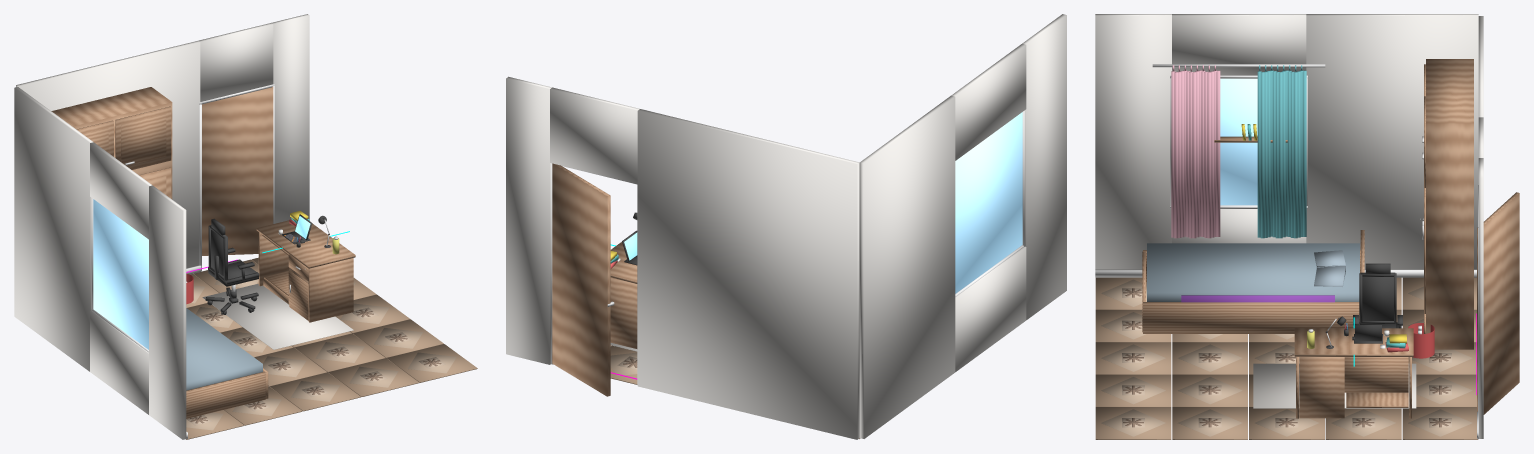
Rendered from room_model.glb.
3 renders of one model, left to right at view 1: azimuth 30°, elevation 25°; view 2: azimuth 150°, elevation 25°; view 3: azimuth 270°, elevation 25°, orthographic. The views are drawn at different scales.
Visible parts, largest first — view 1: Wall_Left_Post2, Wall_Back_Post1, DoorPanel, Wall_Left_Post1, Wall_Back_Post2, Window_Glass, Wall_Back_AboveDoor, FloorRug, Wall_Left_UnderWindow, Mattress, Wall_Left_AboveWindow, Wardrobe_Body (+25 smaller); view 2: Wall_Back_Post1, Wall_Left_Post2, Wall_Back_Post2, DoorPanel, Wall_Left_Post1, Window_Glass, Wall_Back_AboveDoor, Wall_Left_UnderWindow, Wall_Left_AboveWindow, Desk_Panel_Left, Desk_Top; view 3: Wall_Left_Post2, Wall_Left_Post1, Wardrobe_Body, Mattress, Wall_Left_AboveWindow, DoorPanel, BedFrame_SideR, Window_Glass, Desk_Drawers_Box, Desk_Top, FloorRug, Desk_Modesty_Back (+73 smaller).
Part boxes in pixels (x1,y1,x2,y2): Wall_Left_Post2: (14, 87, 93, 371); Wall_Back_Post1: (16, 41, 200, 268); DoorPanel: (202, 87, 273, 255); Wall_Left_Post1: (149, 185, 186, 439); Wall_Back_Post2: (271, 14, 309, 223); Window_Glass: (93, 199, 148, 349); Wall_Back_AboveDoor: (198, 23, 273, 101); FloorRug: (202, 283, 353, 349); Wall_Left_UnderWindow: (90, 311, 148, 414); Mattress: (186, 308, 262, 390); Wall_Left_AboveWindow: (90, 142, 152, 239); Wardrobe_Body: (51, 87, 172, 199); Wall_Back_Post1: (637, 109, 859, 439); Wall_Left_Post2: (859, 95, 955, 438); Wall_Back_Post2: (506, 76, 551, 364); DoorPanel: (552, 163, 610, 396); Wall_Left_Post1: (1022, 14, 1066, 319); Window_Glass: (955, 112, 1022, 293); Wall_Back_AboveDoor: (550, 87, 639, 183); Wall_Left_UnderWindow: (955, 246, 1026, 371); Wall_Left_AboveWindow: (951, 43, 1026, 160); Desk_Panel_Left: (610, 277, 637, 348); Desk_Top: (610, 242, 637, 283); Wall_Left_Post2: (1306, 14, 1478, 269); Wall_Left_Post1: (1095, 14, 1171, 269); Wardrobe_Body: (1426, 59, 1473, 349); Mattress: (1147, 243, 1359, 301); Wall_Left_AboveWindow: (1172, 14, 1306, 75); DoorPanel: (1477, 192, 1519, 414); BedFrame_SideR: (1143, 302, 1359, 333); Window_Glass: (1220, 78, 1257, 205); Desk_Drawers_Box: (1299, 357, 1344, 418); Desk_Top: (1294, 328, 1413, 356); FloorRug: (1253, 363, 1416, 408); Desk_Modesty_Back: (1344, 357, 1408, 392).
Bounding box in the file's own units: 4.05 × 3.02 × 4.43.
Materials: 81 (1 with a texture image).
